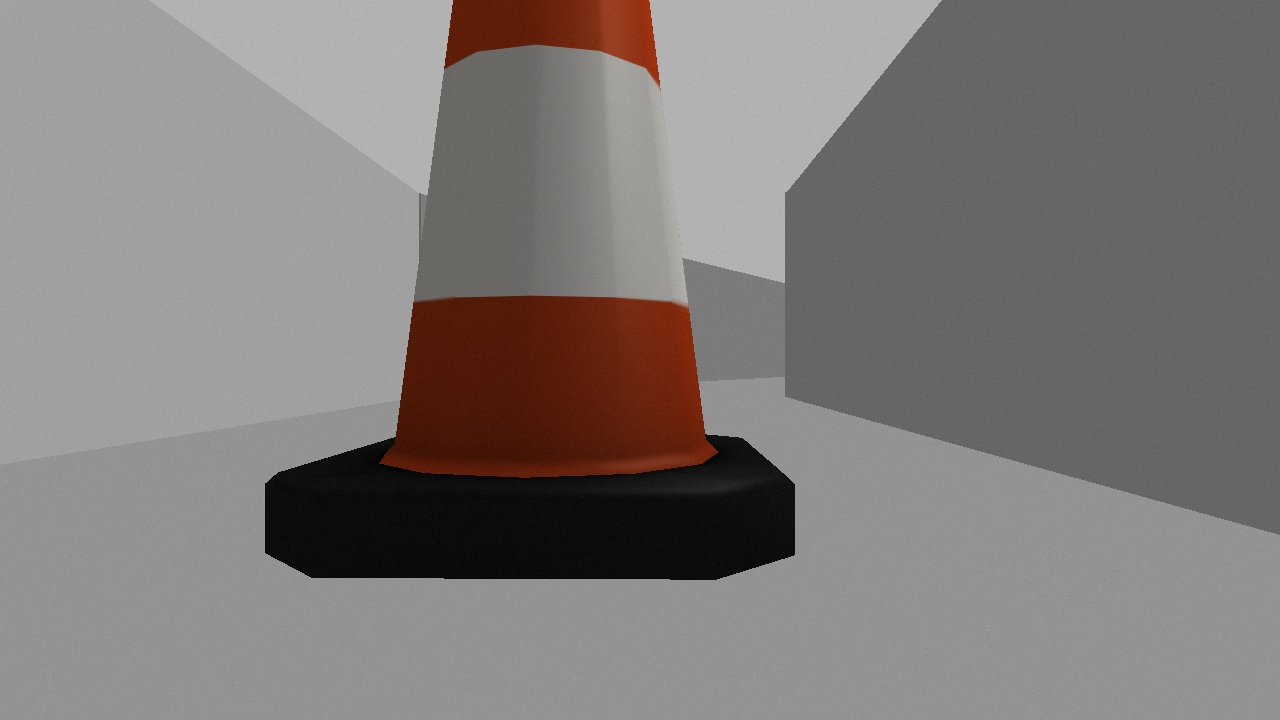barricade: (229, 1, 848, 624)
